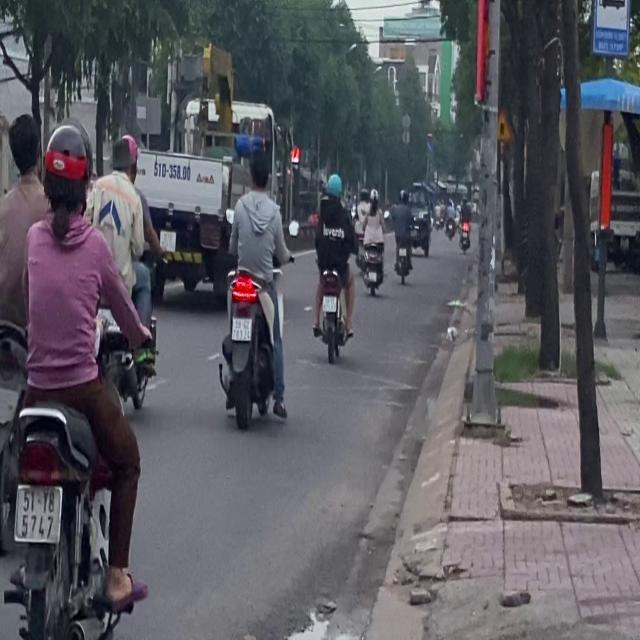helmet: (40, 122, 90, 218), (110, 133, 138, 179), (325, 172, 342, 201)
licenseplate: (0, 116, 152, 634), (217, 143, 291, 428), (97, 128, 161, 425), (309, 171, 359, 363)
motorcyclist: (6, 112, 42, 181), (246, 147, 270, 191)
nohelmet: (15, 484, 60, 540), (231, 316, 251, 339), (322, 296, 337, 312)
